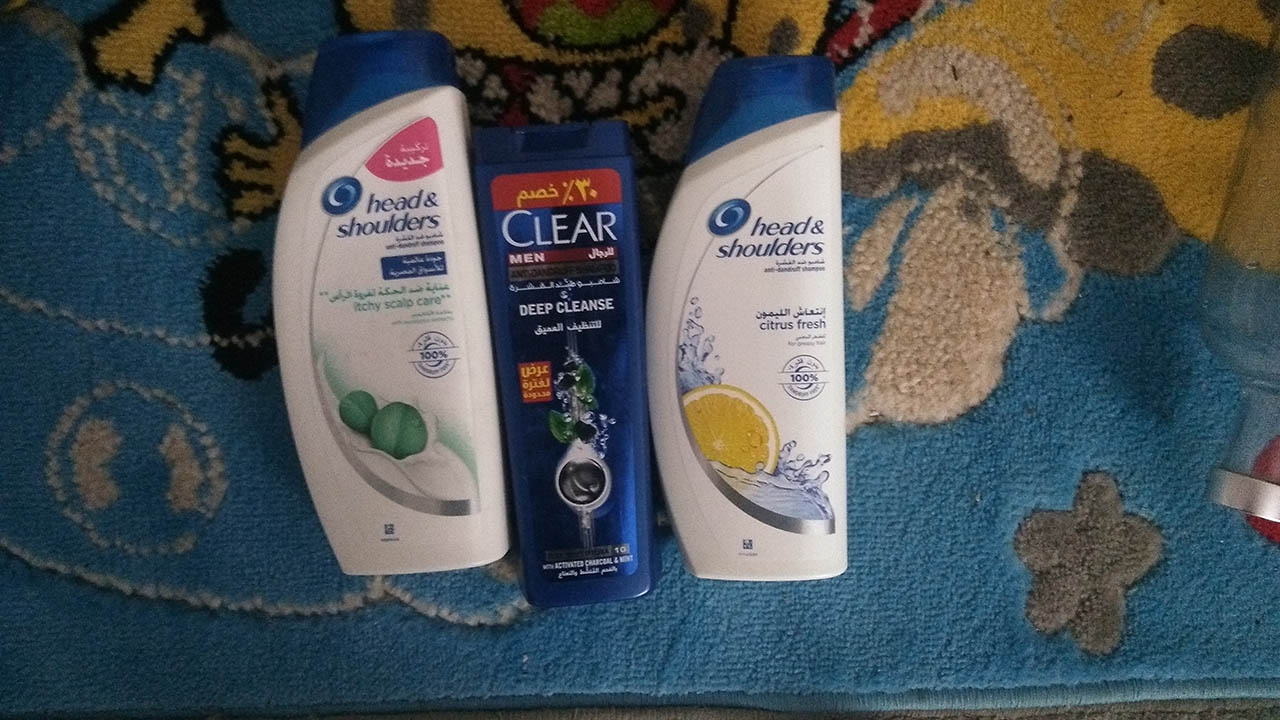Shampoo-Clear 4.7$: (461, 104, 670, 622)
shampoo-Lemon 3.5$: (666, 41, 855, 595)
shampoo-green 4.5$: (262, 31, 508, 591)
